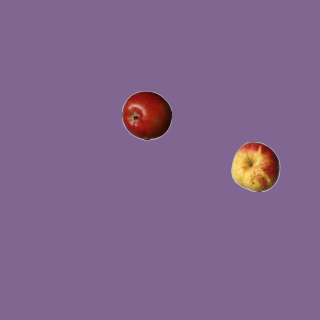Apple Braeburn: (121, 90, 171, 140)
Apple Red Yellow 1: (230, 141, 280, 191)
